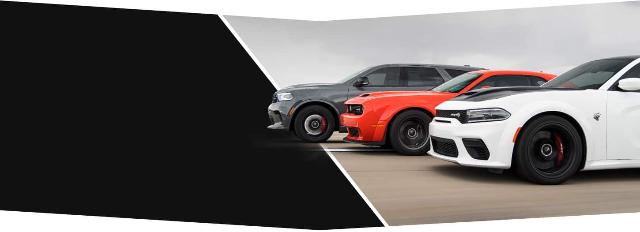dodge: (426, 56, 640, 185), (340, 70, 580, 156), (267, 63, 491, 143)
